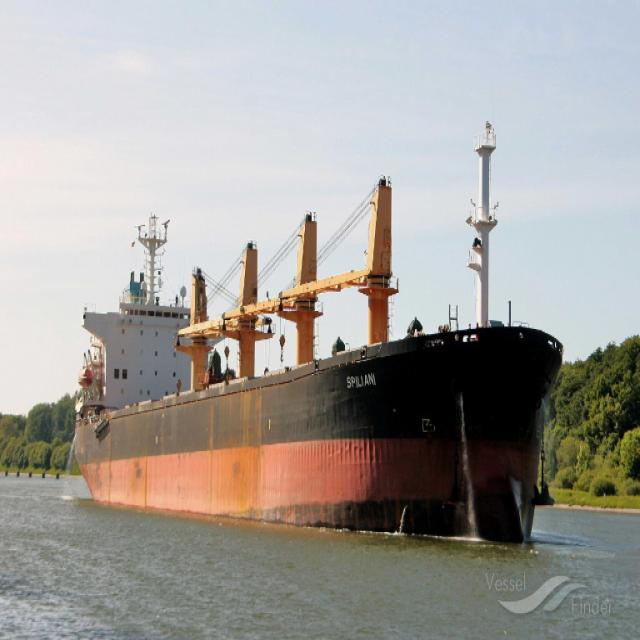OCR: (343, 366, 384, 401)
